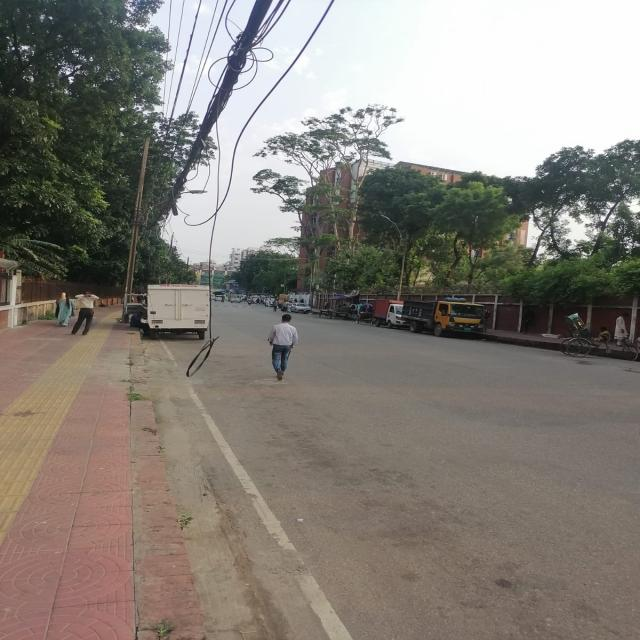person: (268, 313, 298, 381)
